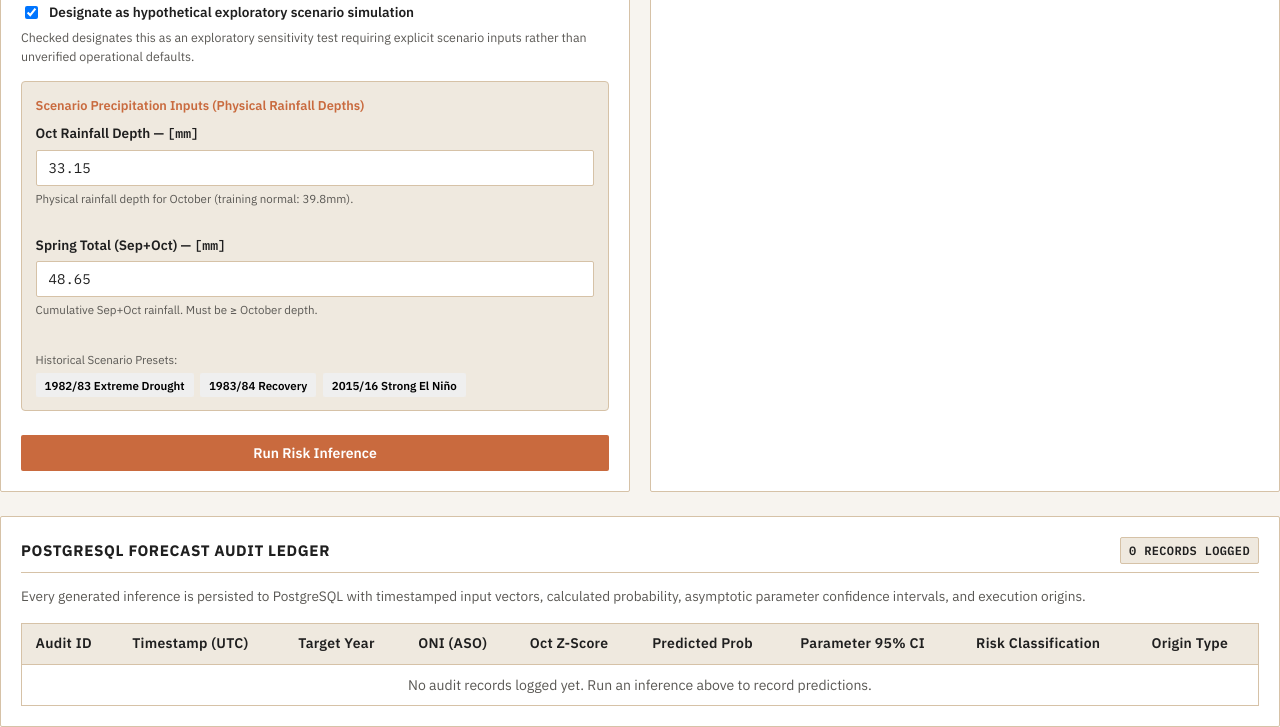
Test: ForecastsView Scientific Integrity & Factor Audit › displays statistical limitation notice when provided in prediction response
(page scrolled)
Click the button "Run Risk Inference" at (315, 453), box [21,435,609,471]
(page scrolled)
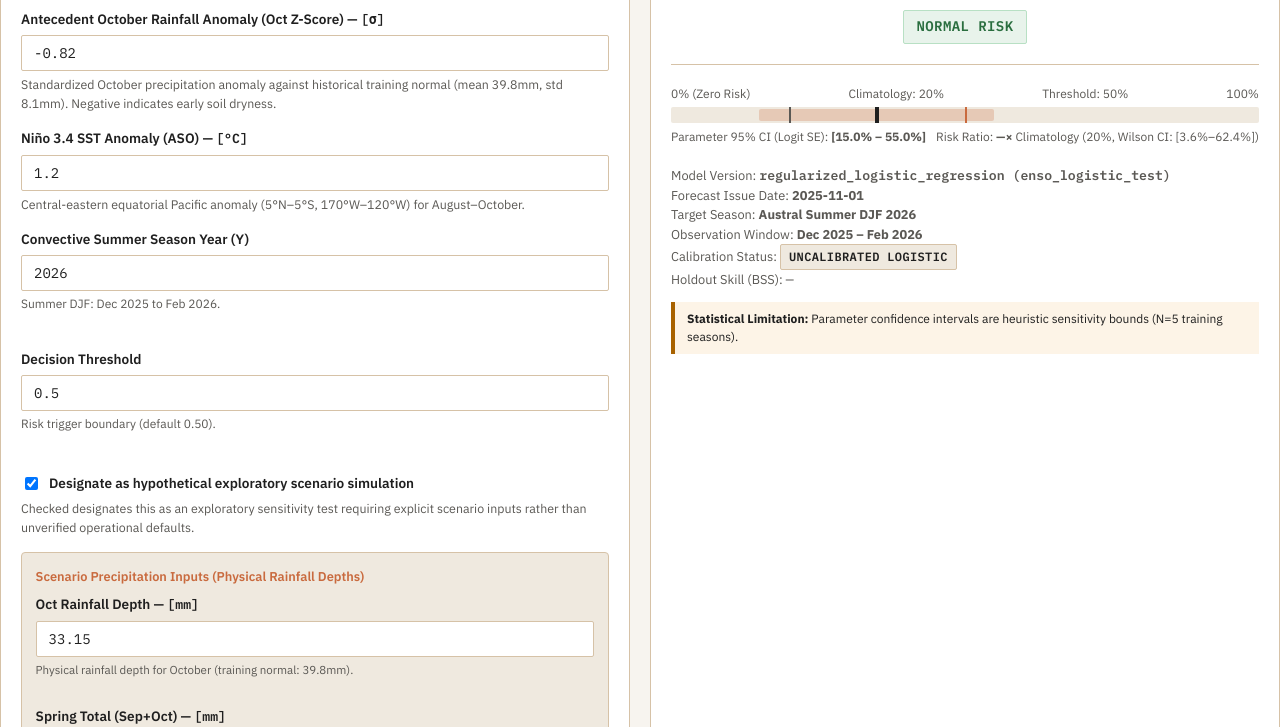
Now the text "Parameter confidence intervals are heuristic sensitivity bounds" is shown, box [687,311,1222,344]
